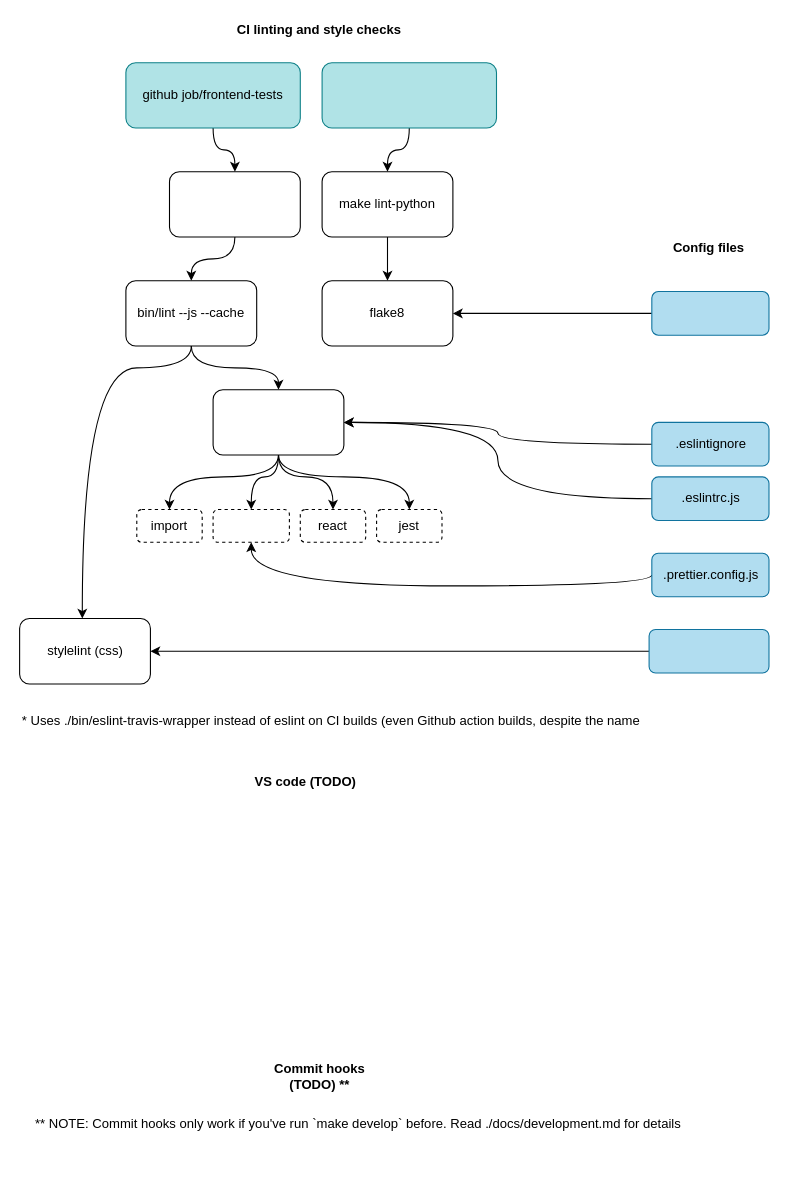
The diagram is 788 pixels wide and 1182 high, and some of its shapes have lost their labels. The centre of each missing label's shape, as x and y in pixels:
"eslint (code) *" goes at point 278,422.
"github job/server-unittests" goes at point 408,95.
"make lint-js" goes at point 234,204.
"prettier" goes at point 250,525.
"setup.cfg [flake8]" goes at point 710,312.
"stylelint.config.js" goes at point 708,650.
